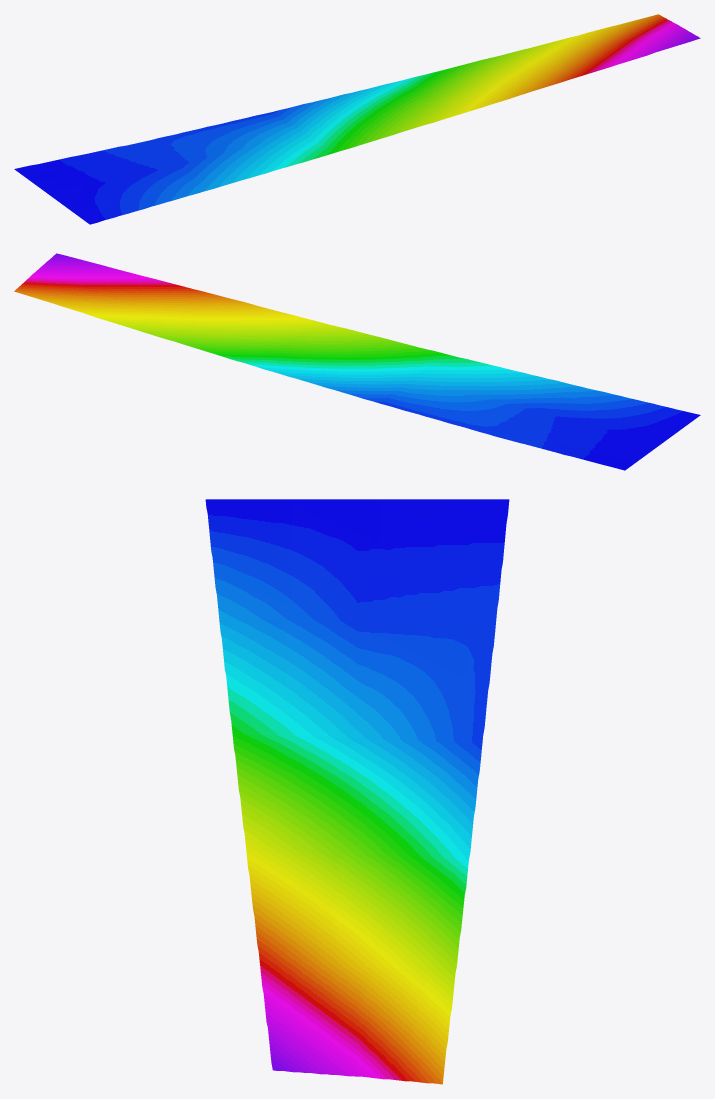
The picture shows the model from 3 angles, top to bottom: view 1: azimuth 30°, elevation 25°; view 2: azimuth 150°, elevation 25°; view 3: azimuth 270°, elevation 25°; orthographic projection. The views are drawn at different scales.
Parts seen in each view (by area): view 1: Elements; view 2: Elements; view 3: Elements.
Boxes of the visible parts, left/top/right/bottom form: Elements: left=14, top=14, right=700, bottom=224; Elements: left=14, top=253, right=700, bottom=470; Elements: left=205, top=499, right=509, bottom=1084.
Size of the model in its own units: 1 by 0.0332 by 0.2096.
1 material, 1 textured.
